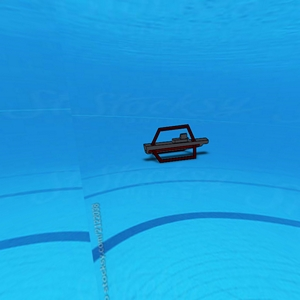submarine: (143, 122, 212, 166)
